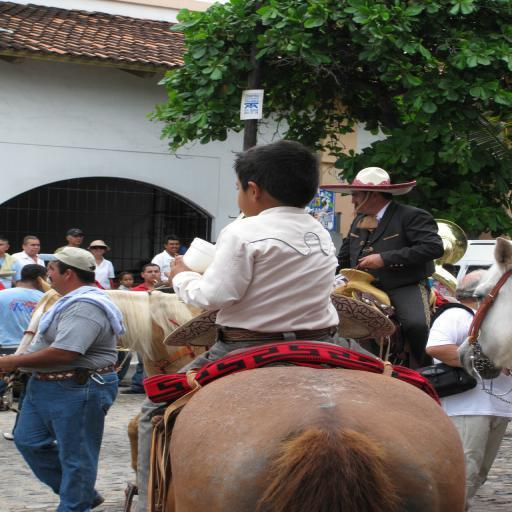horse: (166, 366, 468, 512), (7, 274, 215, 484), (460, 238, 512, 384)
